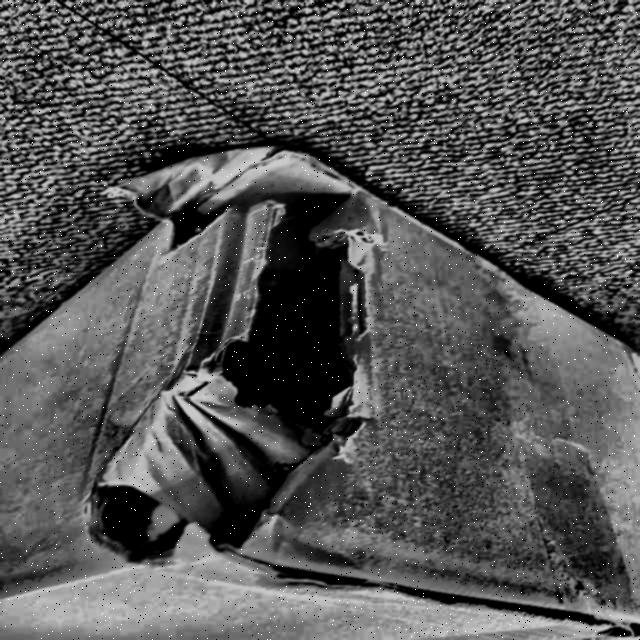box: (0, 146, 640, 640)
hole: (168, 170, 378, 468), (86, 475, 186, 573)
